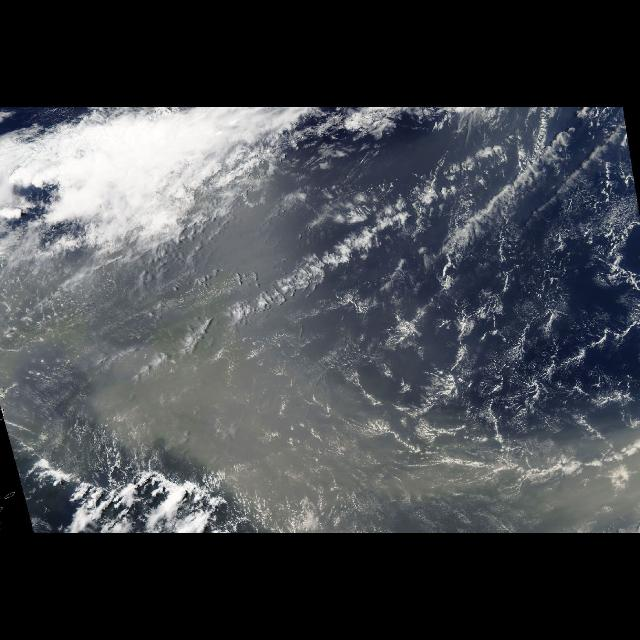Fish: (287, 168, 535, 270), (17, 408, 255, 512)
Gravel: (294, 158, 640, 534)
